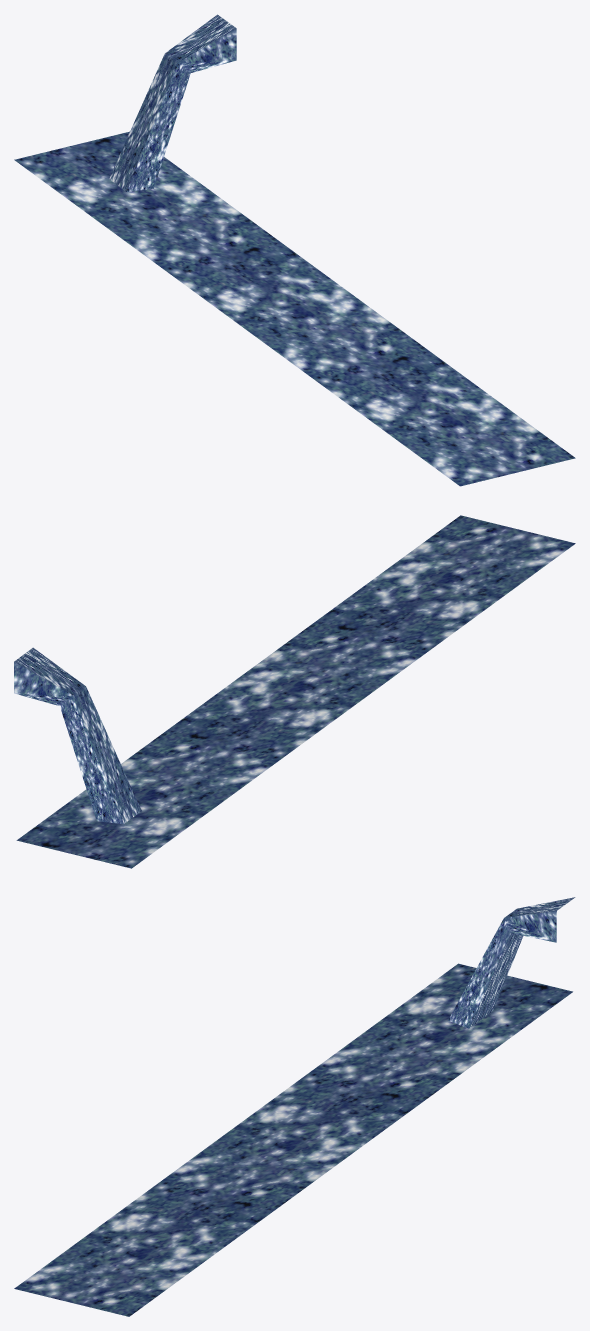
The model's file is ncwater.glb.
3 renders of one model, top to bottom at view 1: azimuth 30°, elevation 25°; view 2: azimuth 150°, elevation 25°; view 3: azimuth 330°, elevation 25°, orthographic.
Parts seen in each view (by area): view 1: ncwater; view 2: ncwater; view 3: ncwater.
Part boxes in pixels (x1,y1,x2,y2): ncwater: (14, 14, 575, 486); ncwater: (14, 515, 575, 868); ncwater: (14, 897, 575, 1316).
Size of the model in its own units: 1228 by 1003 by 5898.
Materials: 2 (2 with a texture image).
